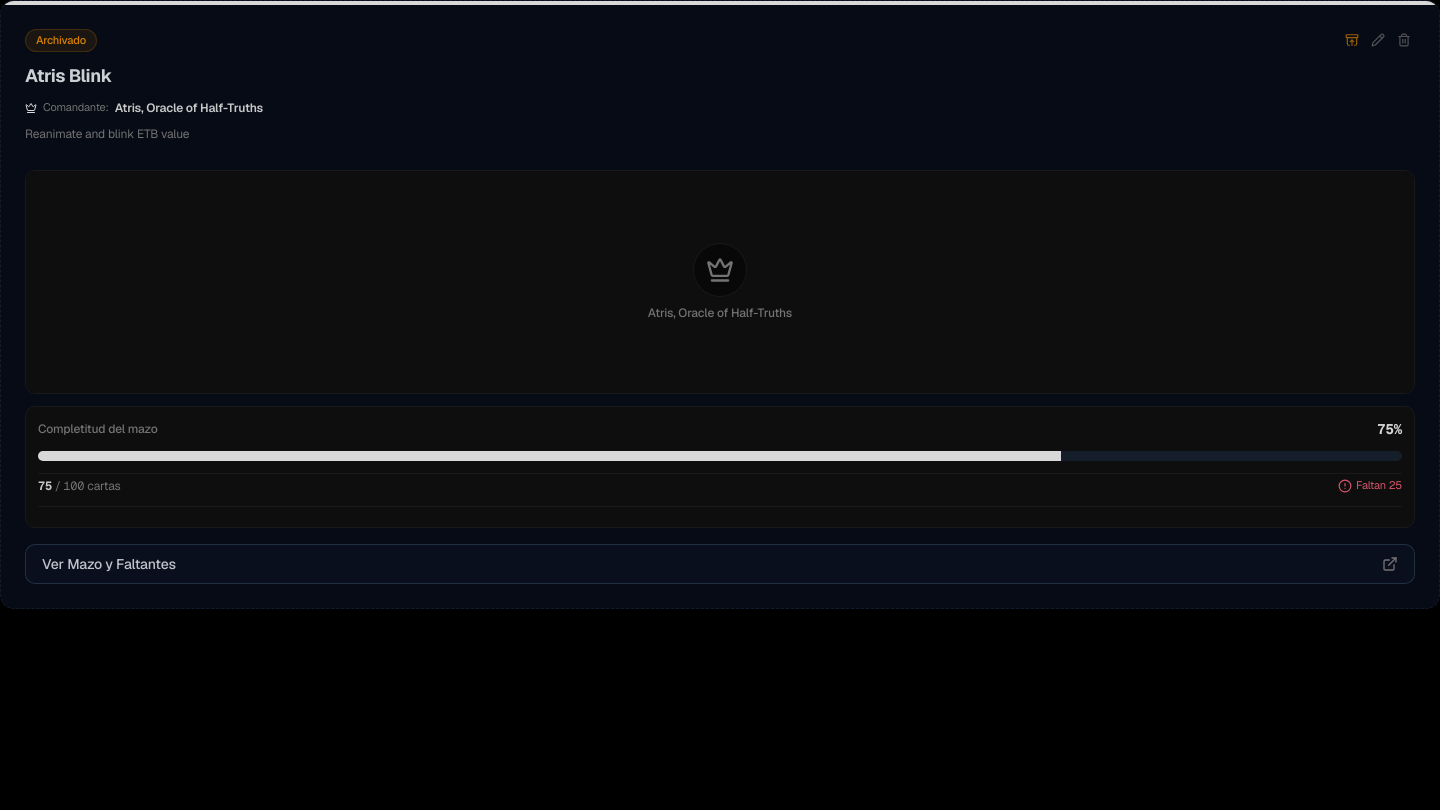
it: Deck Archiving › should show 'Archivado' badge and 'Desarchivar mazo' button when deck is already archived
This screenshot has width=1440, height=810.
Expected: the text "Archivado" is shown, [25,29,97,52]
What coordinates should you click on to do the following:
click the button titled "Desarchivar mazo"
I would click on:
 (1352, 40)
Its box is [1341,29,1363,51].
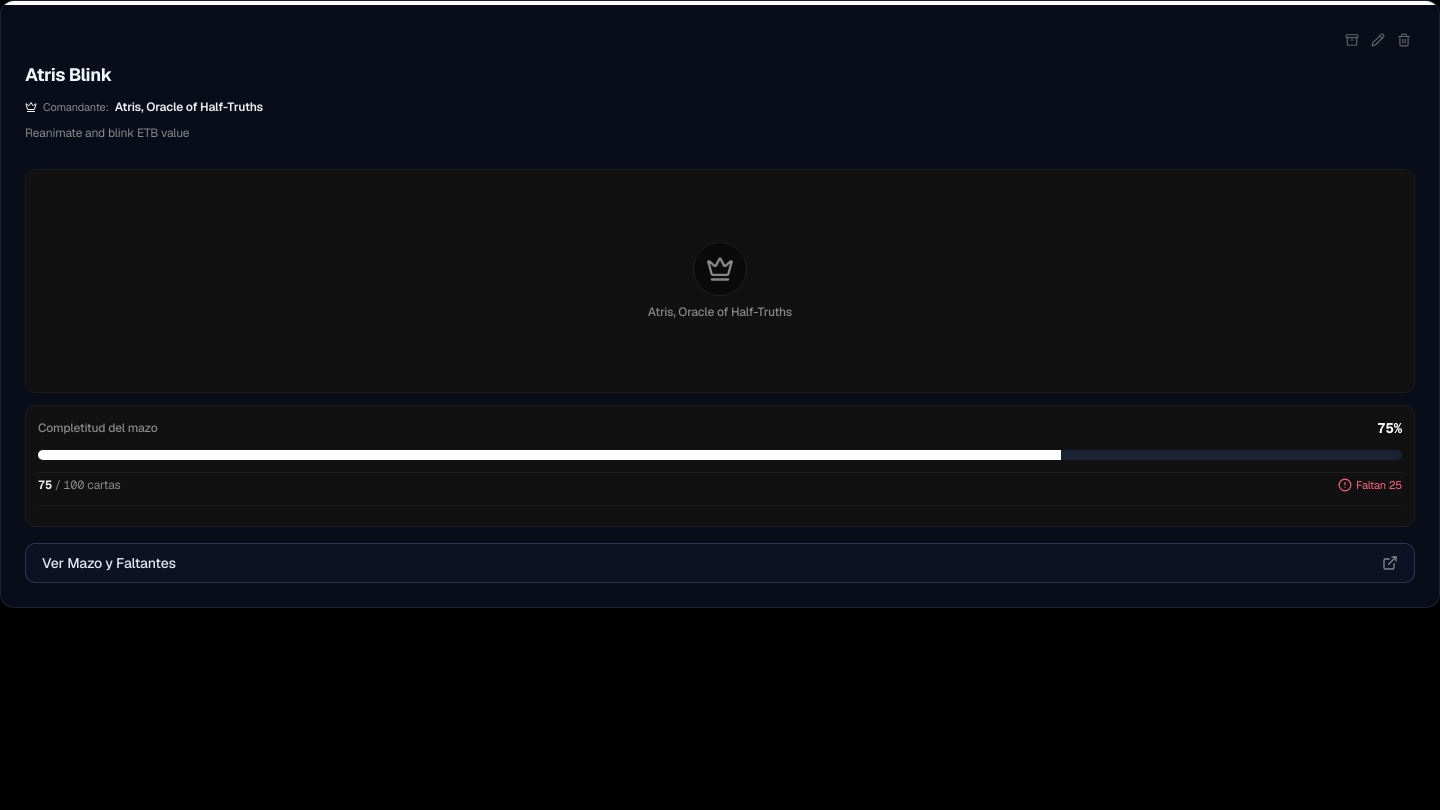
Expected: the text "Archivado" is gone
